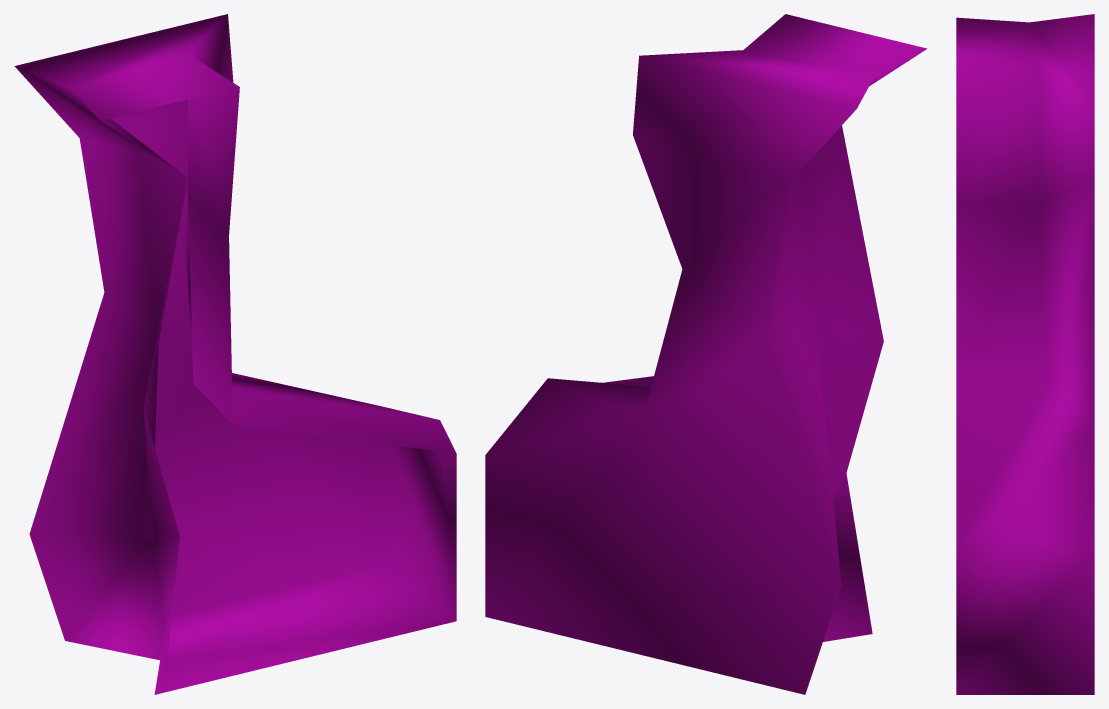
Rendered from Collectionable_1_3.fbx.
3 views of the same model, side by side, from view 1: azimuth 30°, elevation 25°; view 2: azimuth 150°, elevation 25°; view 3: azimuth 270°, elevation 25° (orthographic). The views are drawn at different scales.
Parts seen in each view (by area): view 1: Collectionable_1_3; view 2: Collectionable_1_3; view 3: Collectionable_1_3.
Boxes of the visible parts, x1,y1,x2,y2 form: Collectionable_1_3: (14, 14, 456, 694); Collectionable_1_3: (485, 14, 926, 694); Collectionable_1_3: (956, 14, 1094, 694).
Size of the model in its own units: 8.41 by 12.95 by 3.11.
